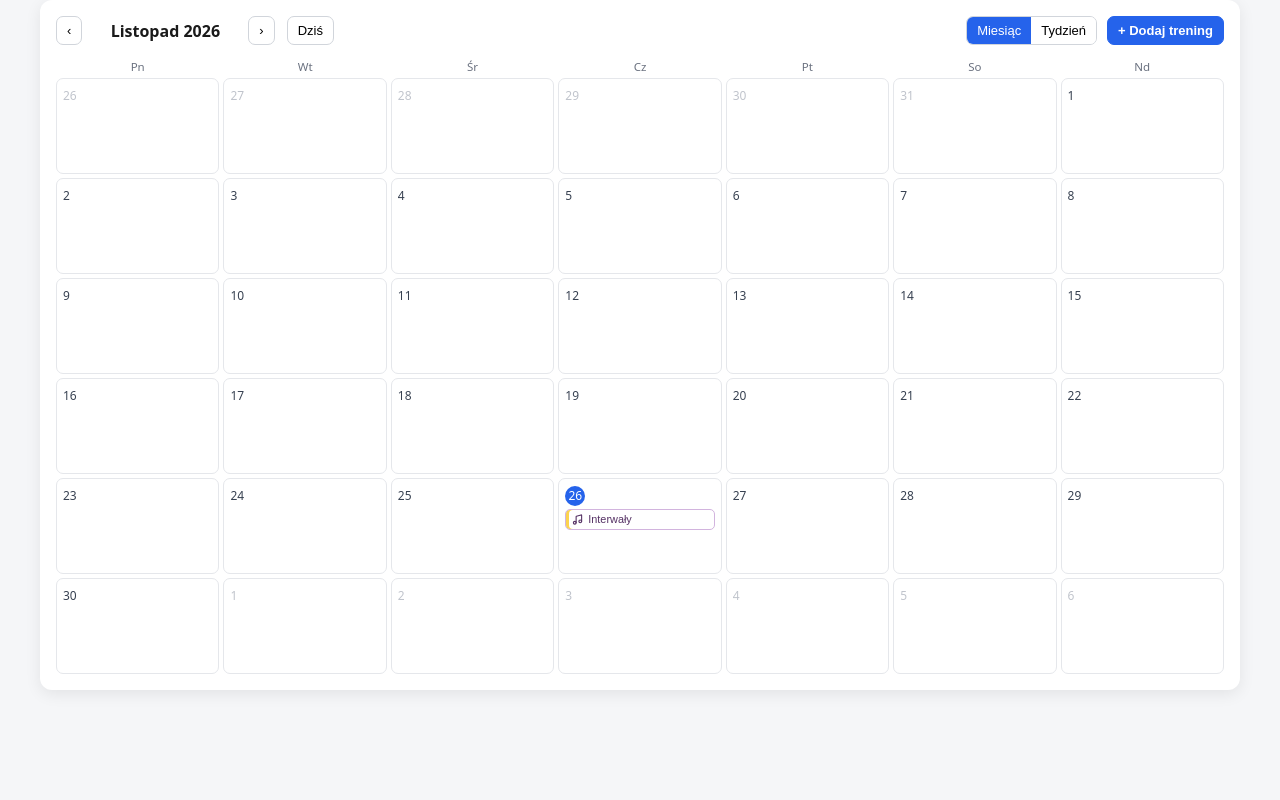
Test: CalendarPage › w trybie podglądu › 403 przy edycji, gdy współpraca trwa: zostaje w trybie i pokazuje odmowę serwera
Click the button titled "Interwały · ułożony przez Ciebie" at [640, 519], box top-left (565, 508), bottom-right (715, 530)
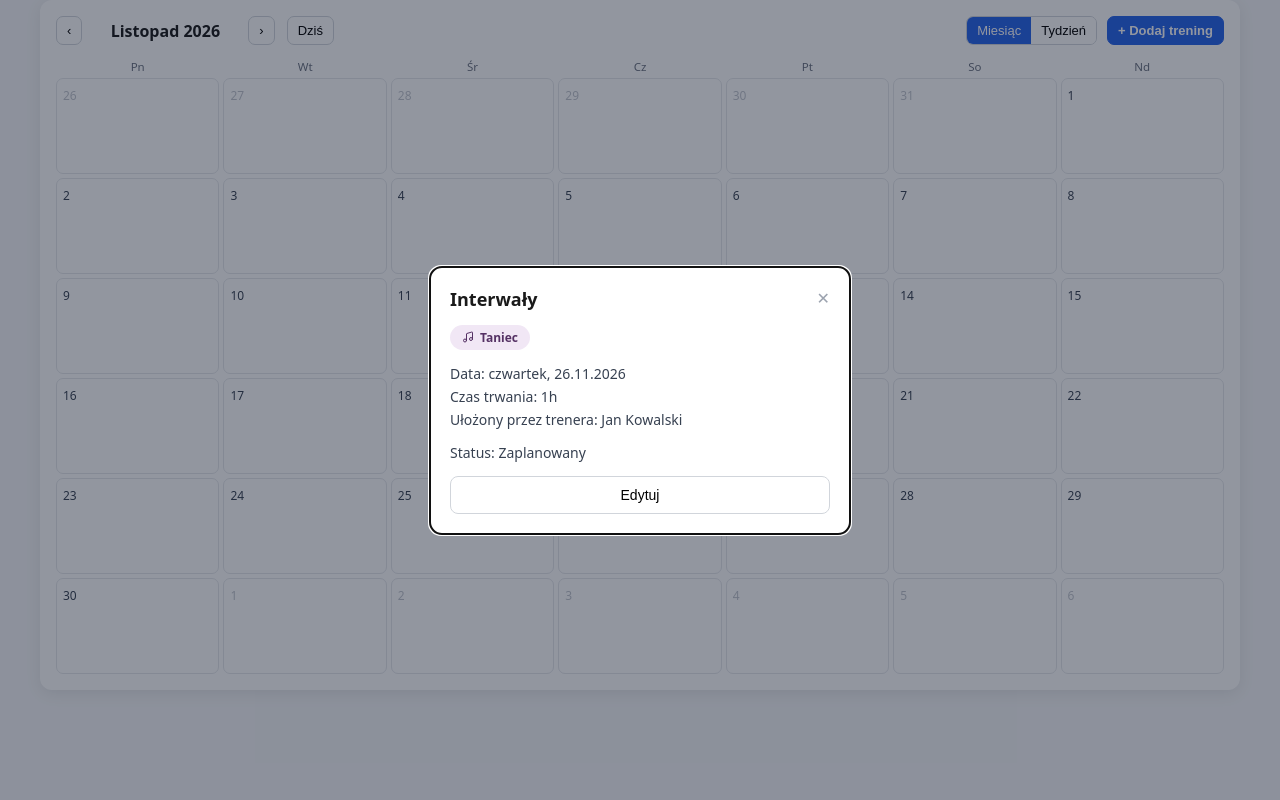
Click the button "Edytuj" at [640, 494], box top-left (450, 476), bottom-right (830, 514)
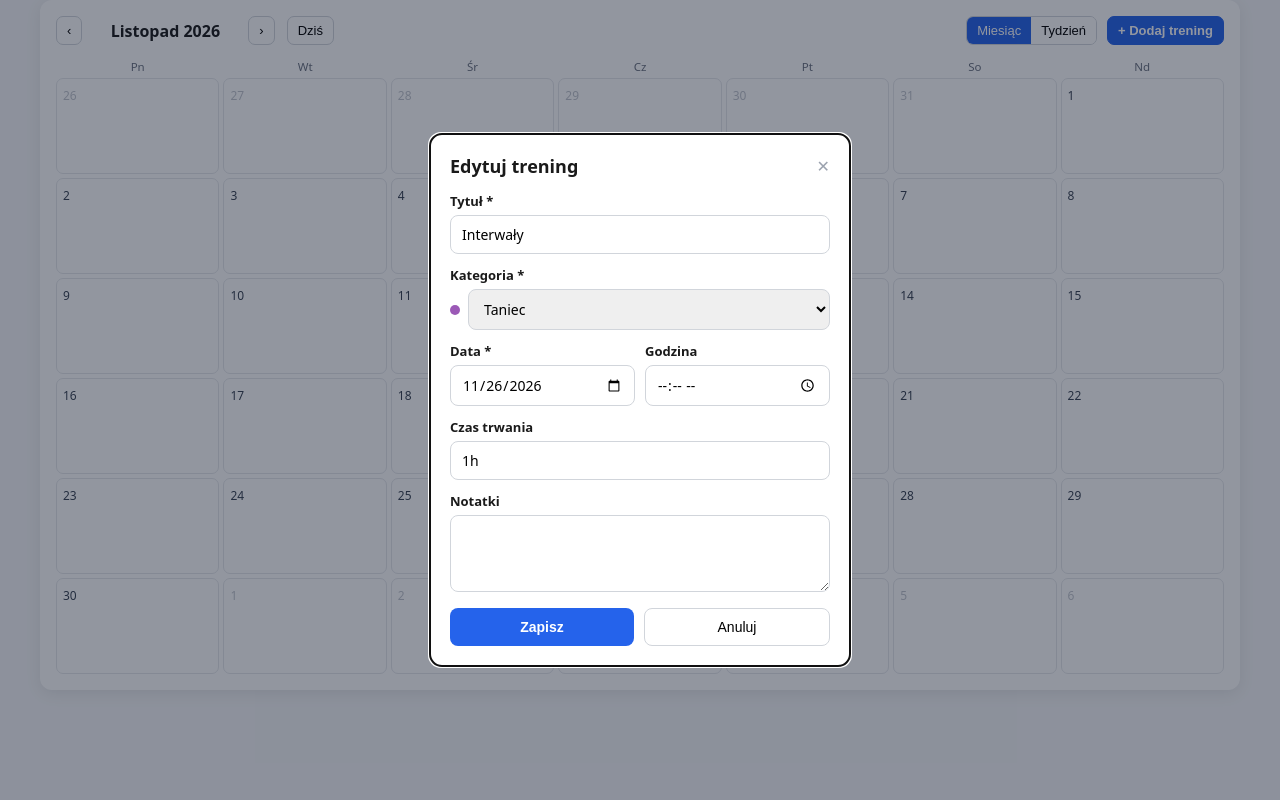
Click the button "Zapisz" at [542, 627], box top-left (450, 608), bottom-right (634, 646)
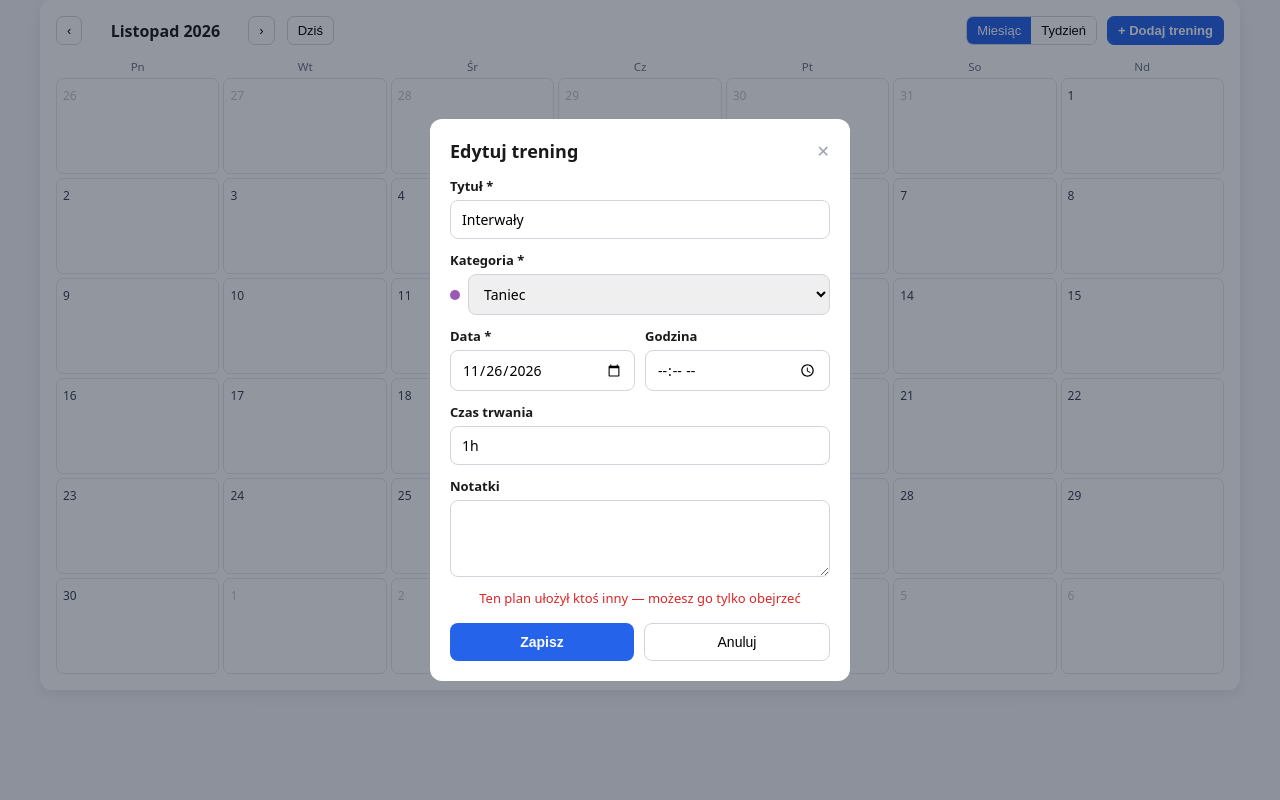
Check: the text "Ten plan ułożył ktoś inny — możesz go tylko obejrzeć" is shown, box top-left (479, 589), bottom-right (801, 607)
